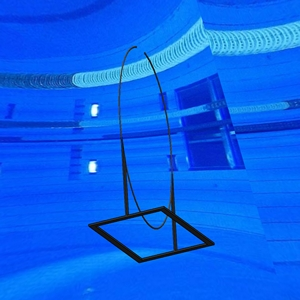circle: (88, 46, 217, 264)
